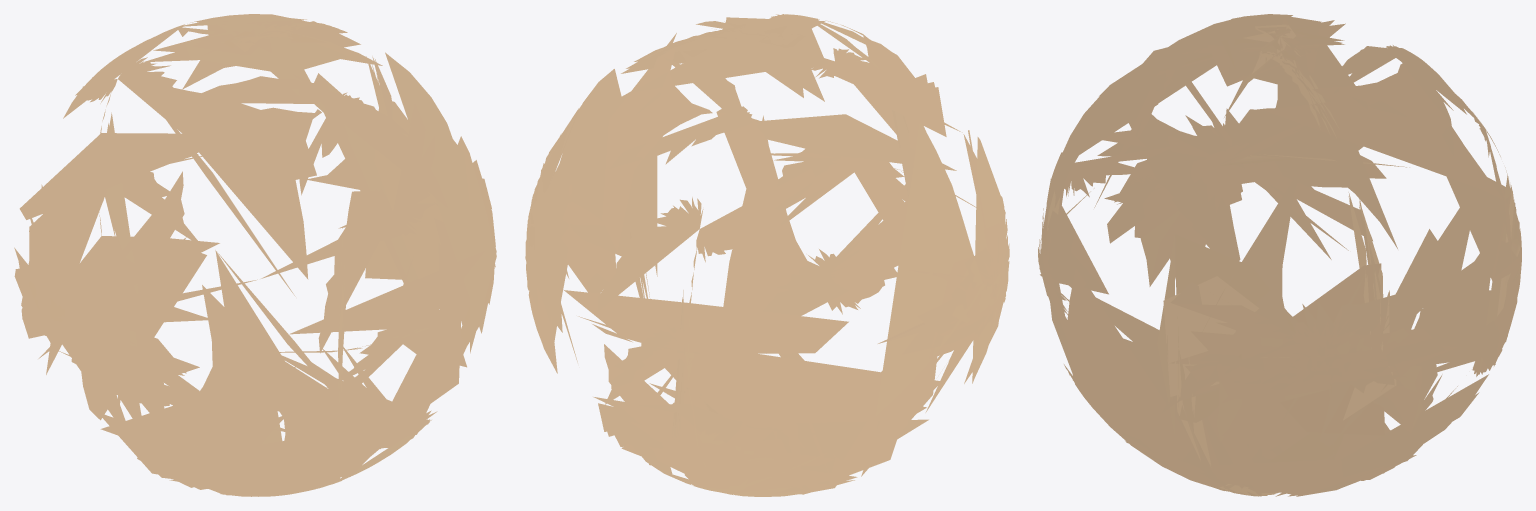
Rendered from cradle-2.1.glb.
3 renders of one model, left to right at view 1: azimuth 30°, elevation 25°; view 2: azimuth 150°, elevation 25°; view 3: azimuth 270°, elevation 25°, orthographic.
Visible parts, largest first — view 1: launch_cradle; view 2: launch_cradle; view 3: launch_cradle.
Boxes of the visible parts, x1=… form: launch_cradle: x1=14, y1=14, x2=496, y2=496; launch_cradle: x1=525, y1=14, x2=1009, y2=496; launch_cradle: x1=1038, y1=14, x2=1521, y2=496.
Size of the model in its own units: 2 by 2 by 2.
